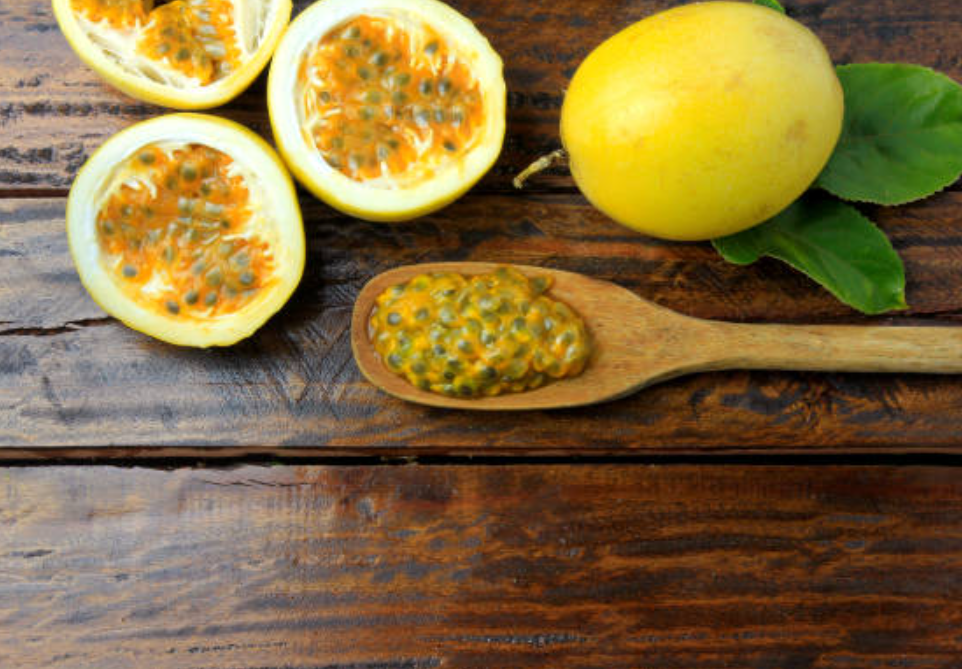maracuya: (556, 1, 849, 249)
